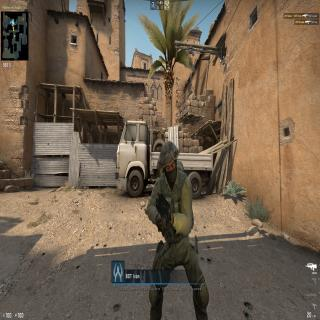CT-Head: (156, 134, 181, 184)
